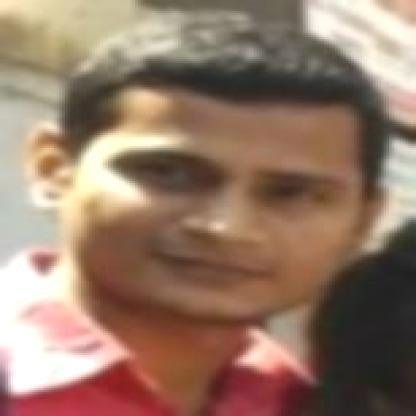without_mask: (103, 129, 351, 318)
